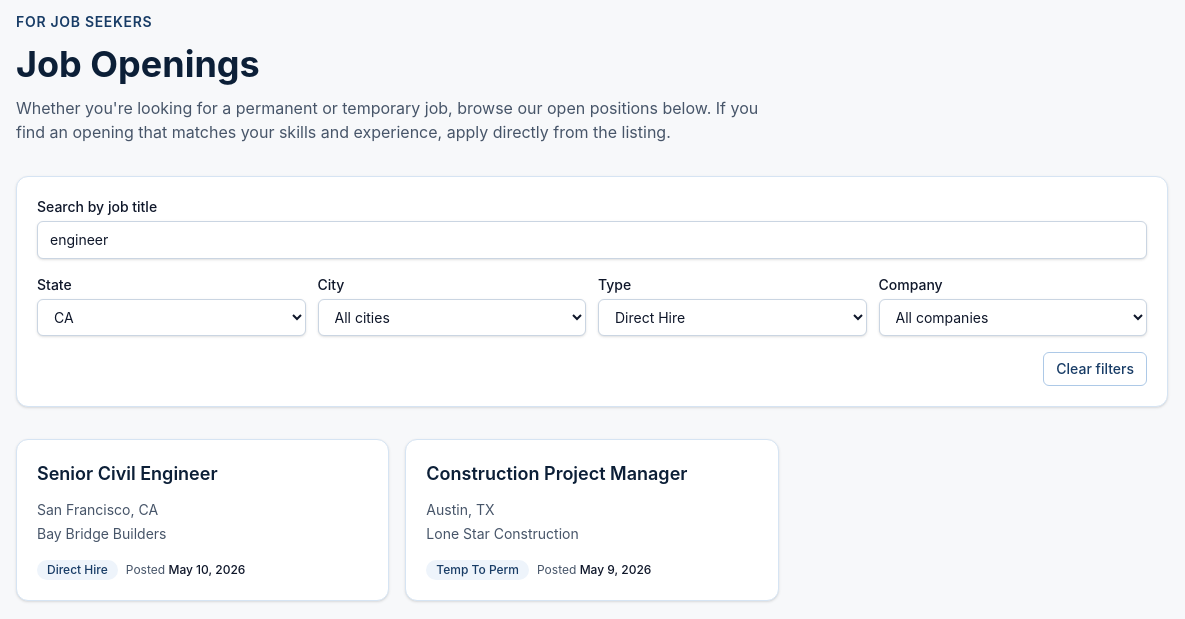
Test: <JobsPage /> — search & filters (Task 8.2) › Clear filters wipes search + dropdowns and removes all URL params
The width and height of the screenshot is (1185, 619).
Expected: the heading "Senior Civil Engineer" is shown, [37, 463, 218, 484]
Click the button "Clear filters" at (1095, 369), box [1043, 352, 1147, 386]
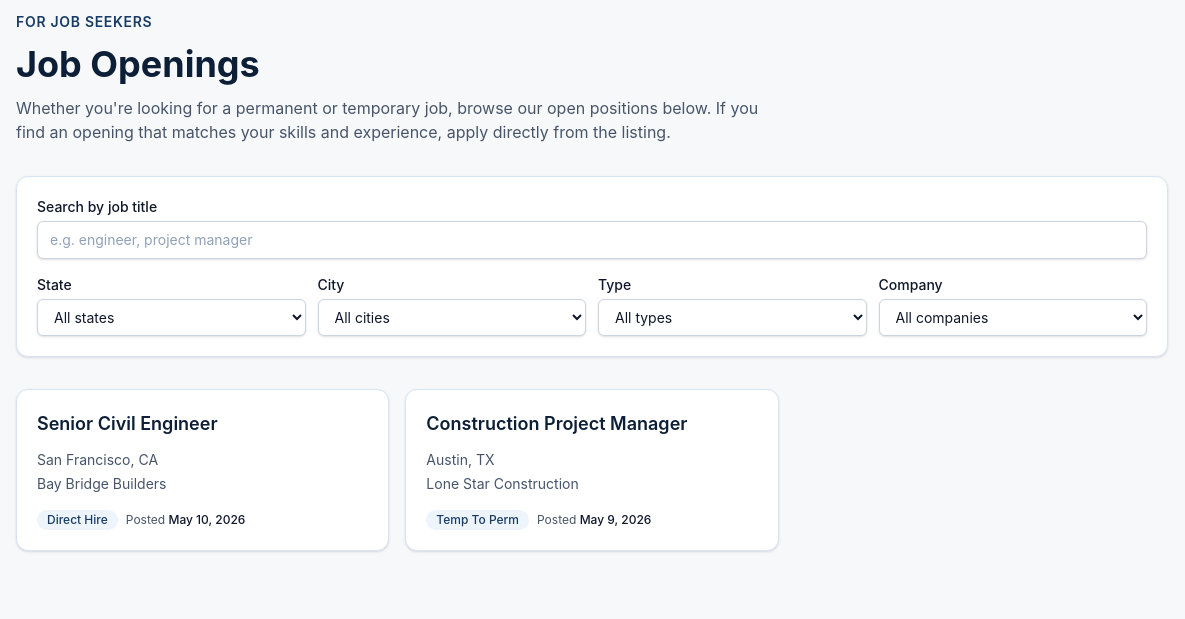
Expected: the search field labelled "Search by job title" is empty, [37, 221, 1147, 259]
Expected: the button "Clear filters" is gone
